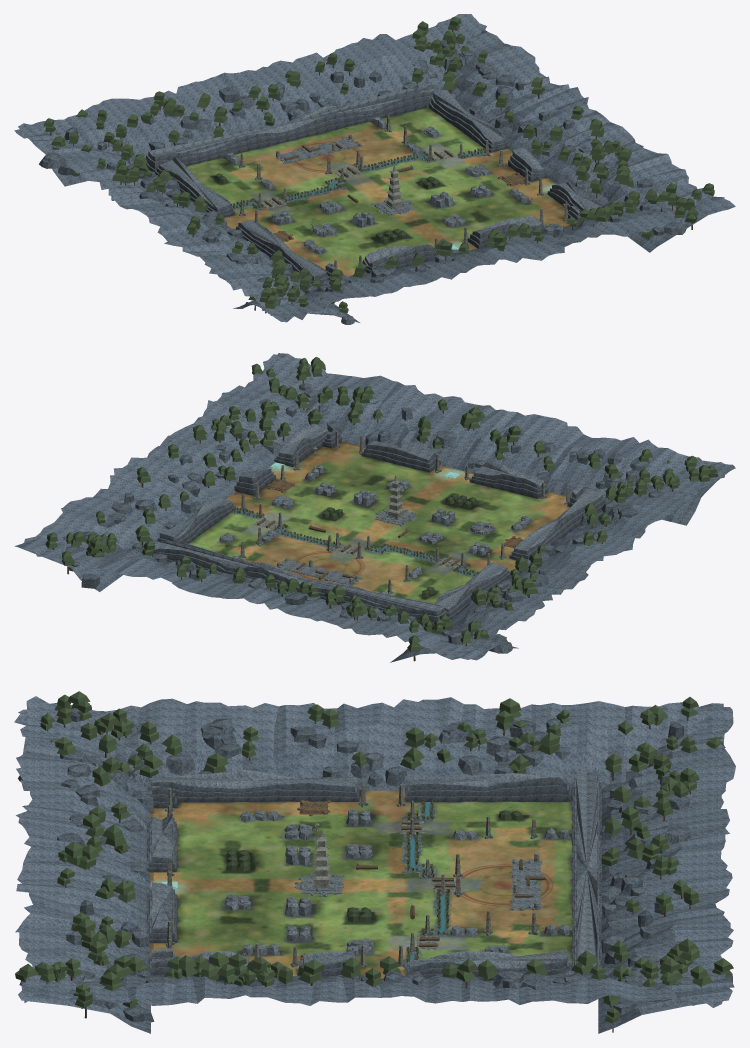
Rendered from level1.glb.
The picture shows the model from 3 angles, top to bottom: view 1: azimuth 30°, elevation 25°; view 2: azimuth 150°, elevation 25°; view 3: azimuth 270°, elevation 25°; orthographic projection. The views are drawn at different scales.
Visible parts, largest first — view 1: DECO_SKIRT, FLOOR, DECO_SKIRTWOOD, COL_CLIFF, DECO_SKIRTROCK, COL_ROCK, COL_RUIN, COL_TRUNK, DECO_REED, COL_THICKET; view 2: DECO_SKIRT, FLOOR, DECO_SKIRTWOOD, COL_CLIFF, DECO_SKIRTROCK, COL_ROCK, COL_RUIN, COL_TRUNK, DECO_REED, COL_THICKET; view 3: DECO_SKIRT, FLOOR, DECO_SKIRTWOOD, COL_CLIFF, DECO_SKIRTROCK, COL_ROCK, COL_RUIN, COL_TRUNK, COL_THICKET, DECO_REED, WATER_STREAM.
Boxes of the visible parts, x1,y1,x2,y2 form: DECO_SKIRT: [14, 14, 735, 322]; FLOOR: [186, 107, 570, 277]; DECO_SKIRTWOOD: [43, 16, 714, 312]; COL_CLIFF: [146, 88, 601, 285]; DECO_SKIRTROCK: [39, 40, 686, 324]; COL_ROCK: [226, 116, 568, 254]; COL_RUIN: [240, 115, 567, 268]; COL_TRUNK: [50, 30, 692, 315]; DECO_REED: [231, 147, 485, 208]; COL_THICKET: [214, 173, 439, 243]; DECO_SKIRT: [14, 353, 735, 662]; FLOOR: [188, 441, 570, 603]; DECO_SKIRTWOOD: [45, 357, 718, 652]; COL_CLIFF: [152, 423, 607, 624]; DECO_SKIRTROCK: [63, 383, 699, 653]; COL_ROCK: [219, 445, 566, 594]; COL_RUIN: [229, 430, 569, 593]; COL_TRUNK: [52, 380, 673, 661]; DECO_REED: [233, 507, 478, 575]; COL_THICKET: [322, 493, 477, 597]; DECO_SKIRT: [14, 696, 735, 1033]; FLOOR: [150, 790, 572, 978]; DECO_SKIRTWOOD: [15, 691, 733, 1023]; COL_CLIFF: [147, 769, 602, 980]; DECO_SKIRTROCK: [18, 708, 732, 1022]; COL_ROCK: [165, 802, 570, 967]; COL_RUIN: [166, 784, 539, 966]; COL_TRUNK: [24, 717, 701, 1032]; COL_THICKET: [226, 810, 523, 922]; DECO_REED: [405, 799, 449, 965]; WATER_STREAM: [409, 802, 446, 961].
Bounding box in the file's own units: 152 × 14.19 × 152.
15 materials, 10 textured.
